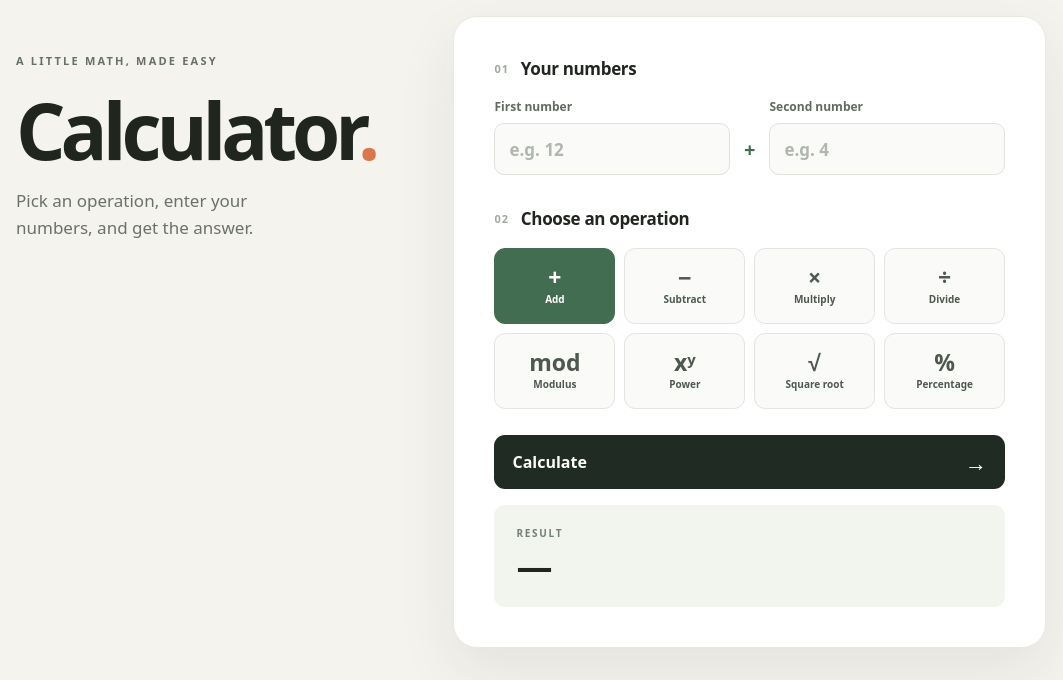
Test case: calculator form › submits the chosen binary operation and clears the answer after an edit
Click the button "÷ Divide": click(945, 286) [884,248,1005,324]
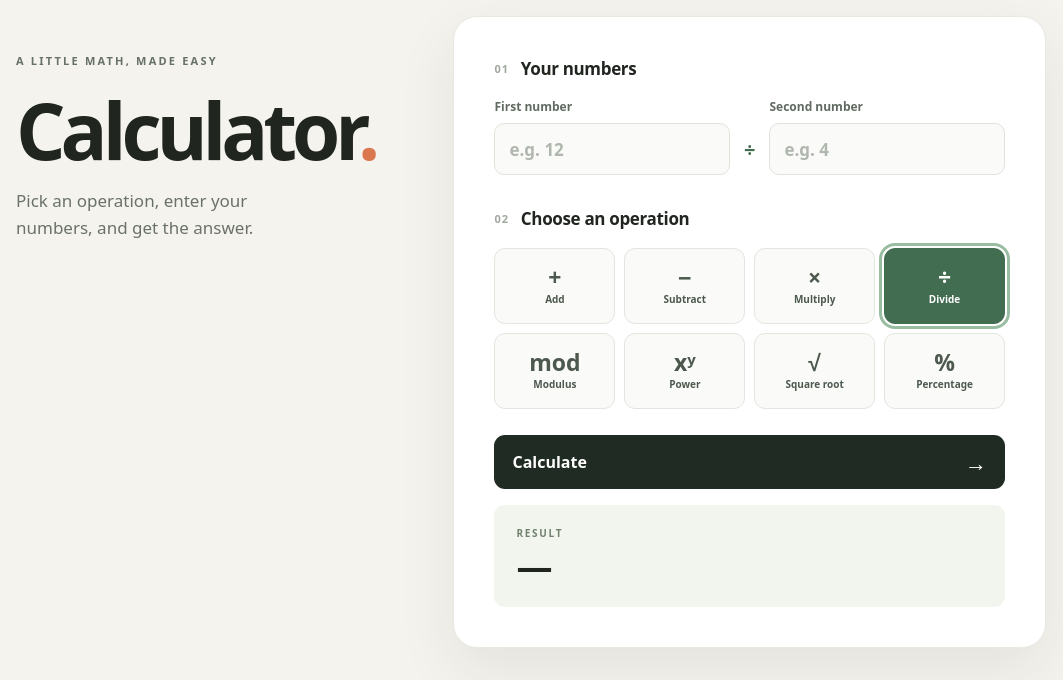
Check: the button "÷ Divide" is pressed, box [884,248,1005,324]
In the number field labelled "First number": (612, 149) [494,123,730,175], type "8"
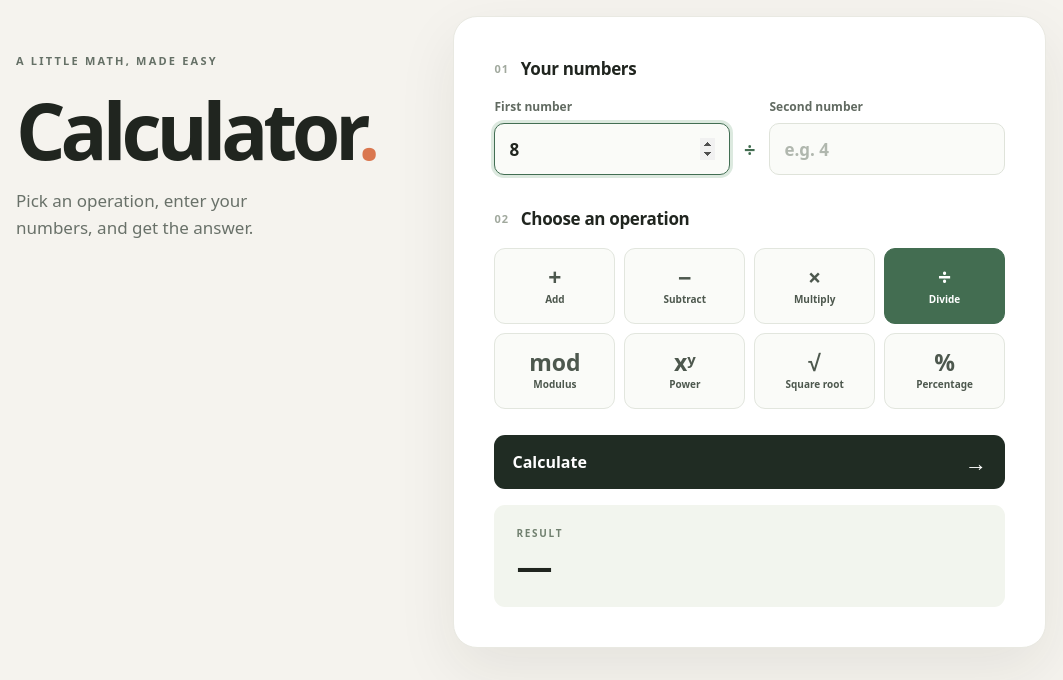
In the number field labelled "Second number": (887, 149) [770,123,1005,175], type "2"
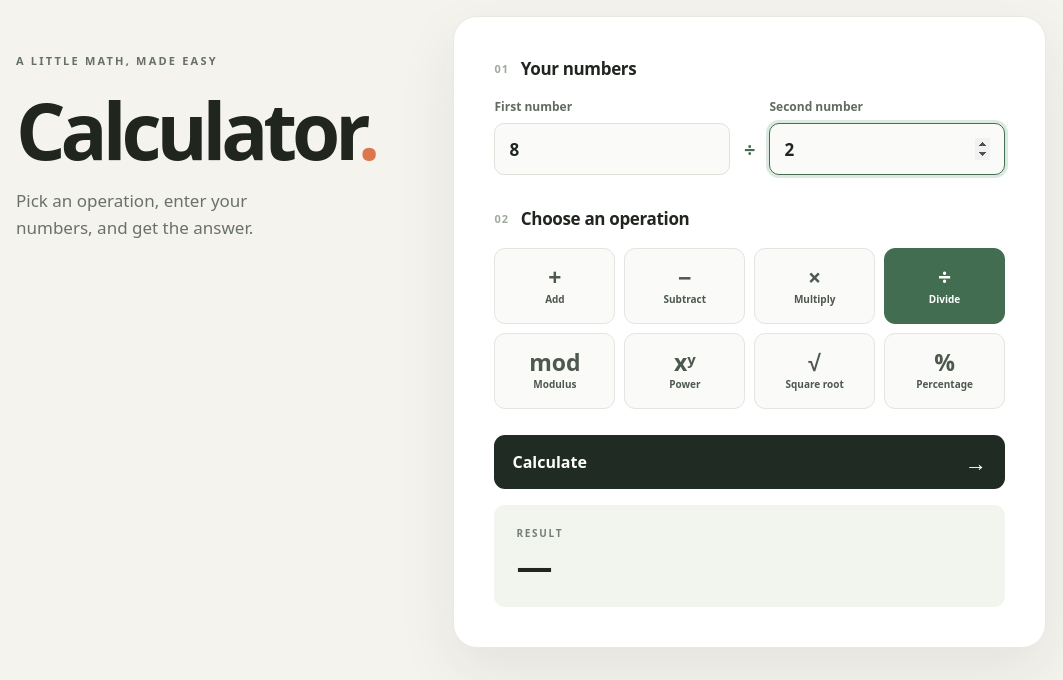
Click the button "Calculate →": click(550, 462) [494,435,1005,489]
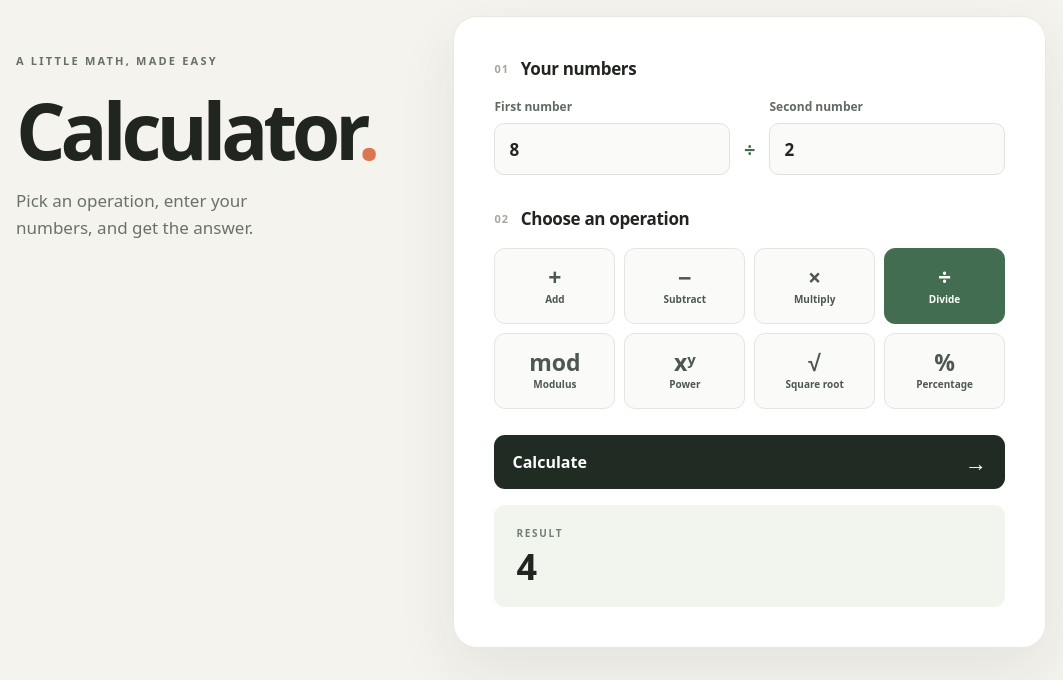
Check: the text "4" is shown, box [516,542,537,591]
In the number field labelled "First number": (612, 149) [494,123,730,175], type "0"
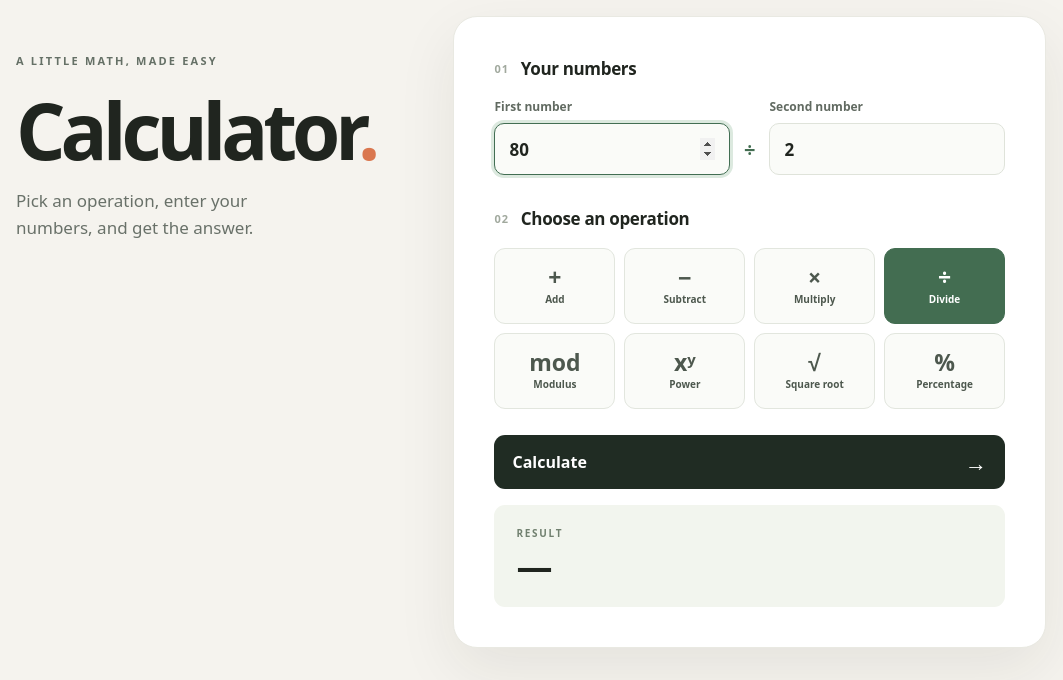
Check: the text "—" is shown, box [516,542,552,591]
